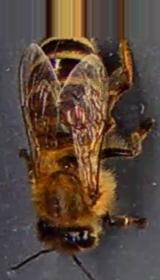varroa_mite: (61, 98, 88, 129)
